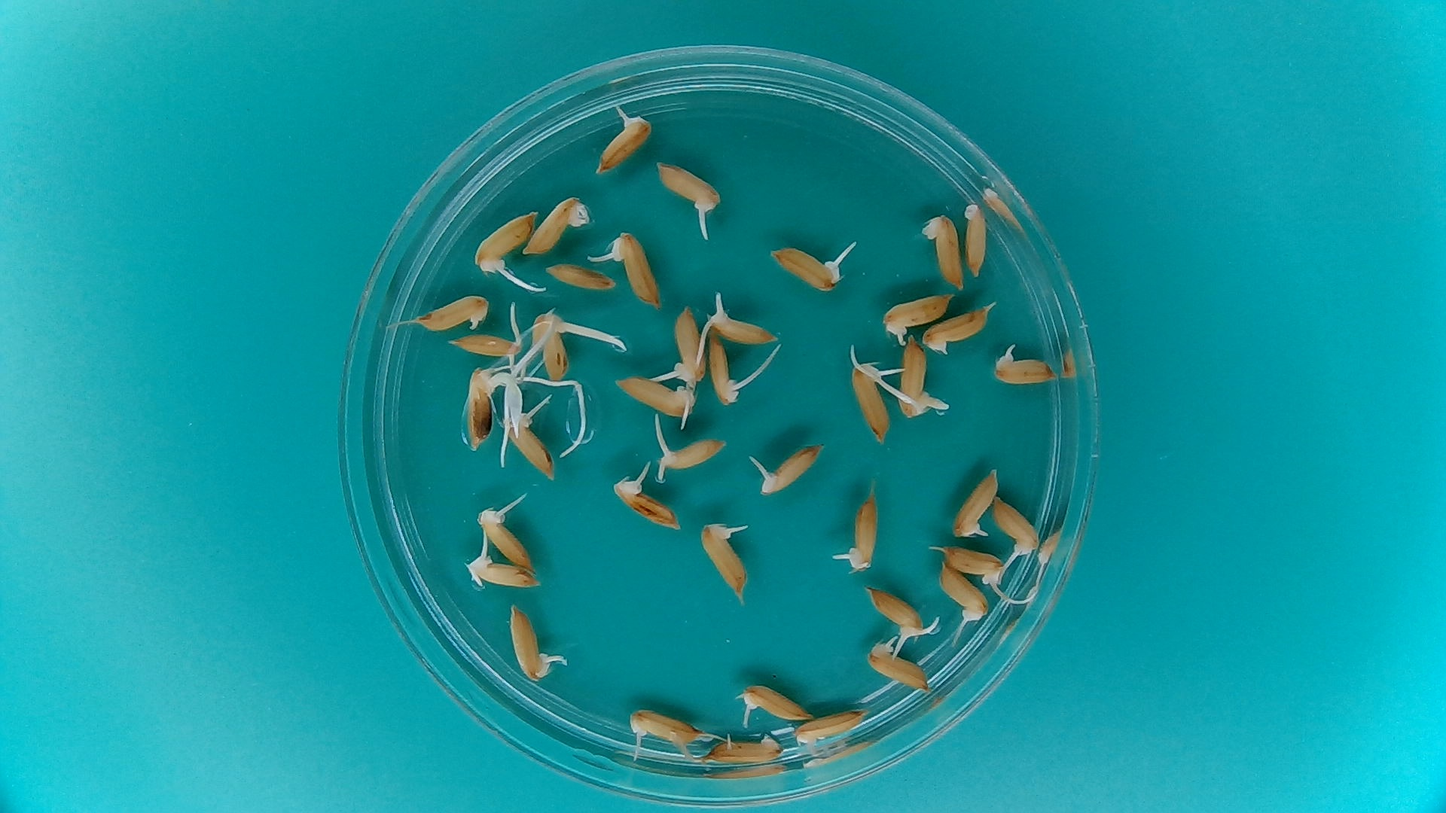no: (791, 705, 873, 750), (523, 195, 582, 256), (921, 305, 993, 352), (705, 729, 786, 768), (926, 214, 966, 292), (961, 196, 993, 280), (541, 263, 618, 290)
yes: (474, 209, 536, 276), (616, 373, 699, 422), (697, 523, 749, 596), (665, 300, 708, 386), (758, 440, 821, 498), (505, 410, 556, 480), (651, 163, 722, 212), (734, 681, 814, 724), (952, 466, 999, 538), (596, 111, 649, 174), (614, 235, 660, 305), (898, 334, 936, 418), (417, 292, 493, 334), (480, 510, 535, 568), (849, 483, 884, 574), (770, 247, 840, 292), (850, 362, 889, 442), (938, 562, 990, 622), (885, 292, 954, 337), (616, 480, 679, 529), (992, 492, 1040, 556), (630, 705, 703, 746), (507, 607, 545, 684), (532, 312, 573, 382), (459, 370, 495, 447), (938, 544, 1009, 583), (465, 556, 541, 592), (869, 589, 928, 635), (869, 644, 929, 687), (990, 349, 1056, 388), (706, 333, 740, 405), (702, 314, 775, 347), (453, 325, 525, 358), (660, 440, 722, 473)
